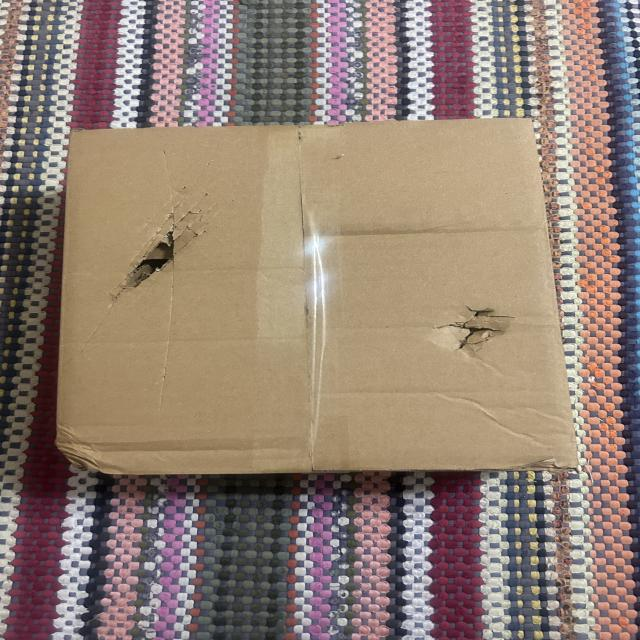damaged: (53, 114, 594, 490), (104, 211, 204, 314), (415, 297, 535, 374)
